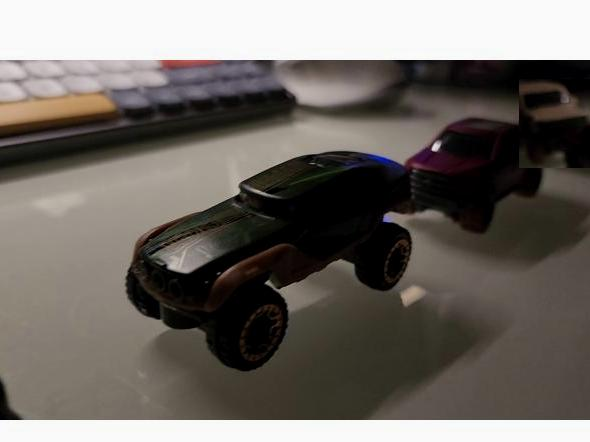toy-car: (125, 148, 413, 374), (403, 113, 547, 236), (519, 79, 590, 168)
